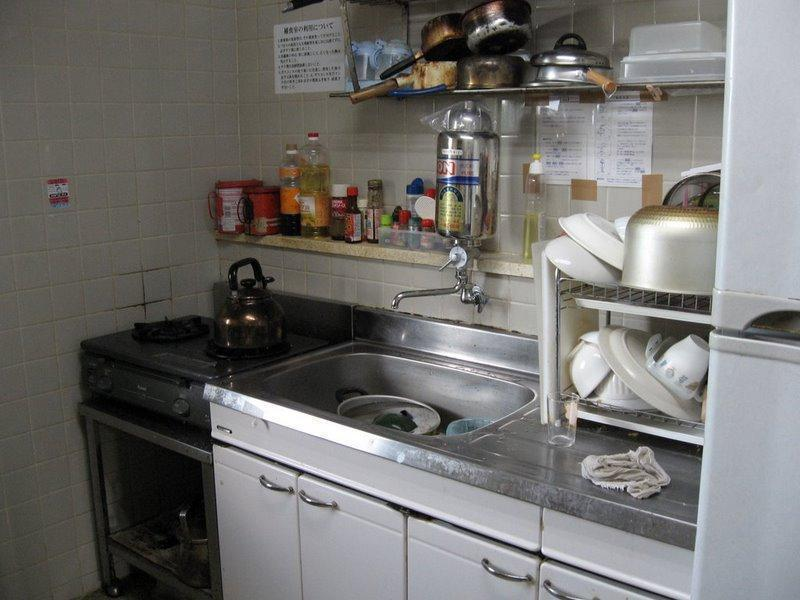Electrodomestico: (83, 328, 219, 593)
Lavaplatos: (245, 266, 541, 460)
